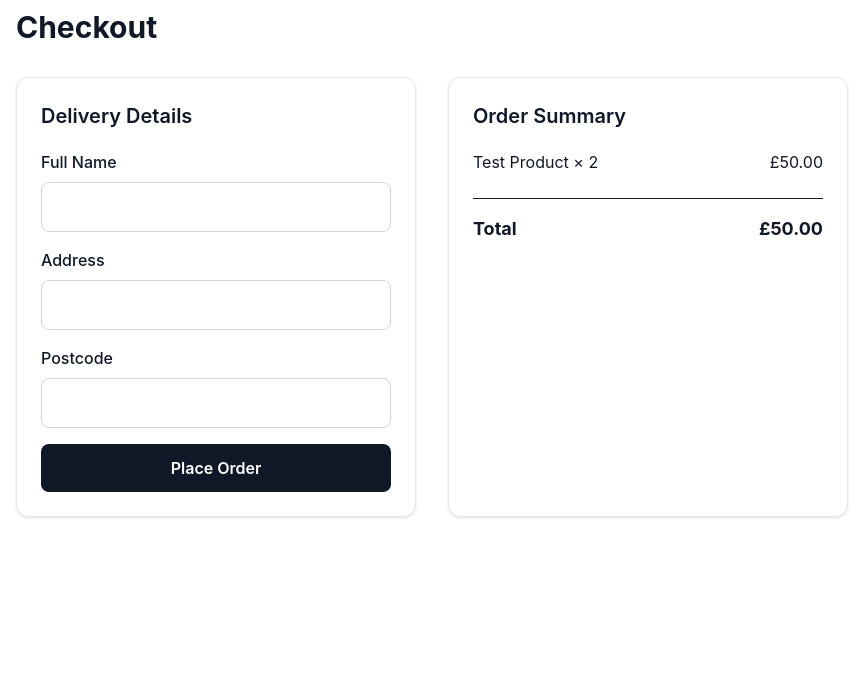
Test: Checkout › shows demo message after placing order
In the field labelled "Full Name": (216, 207) [41,182,391,232], type "Test User"
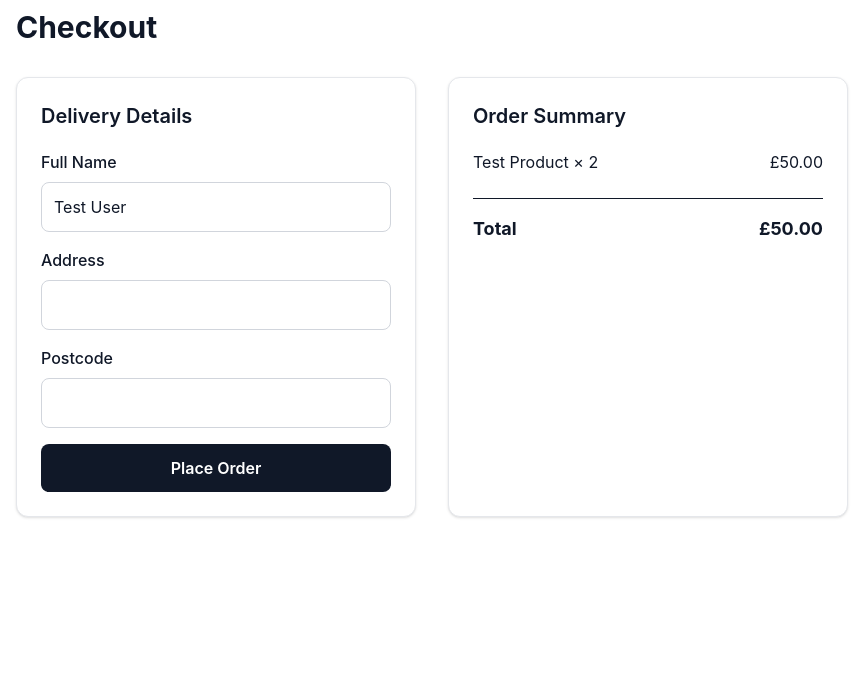
In the field labelled "Address": (216, 305) [41,280,391,330], type "10 Test Street"
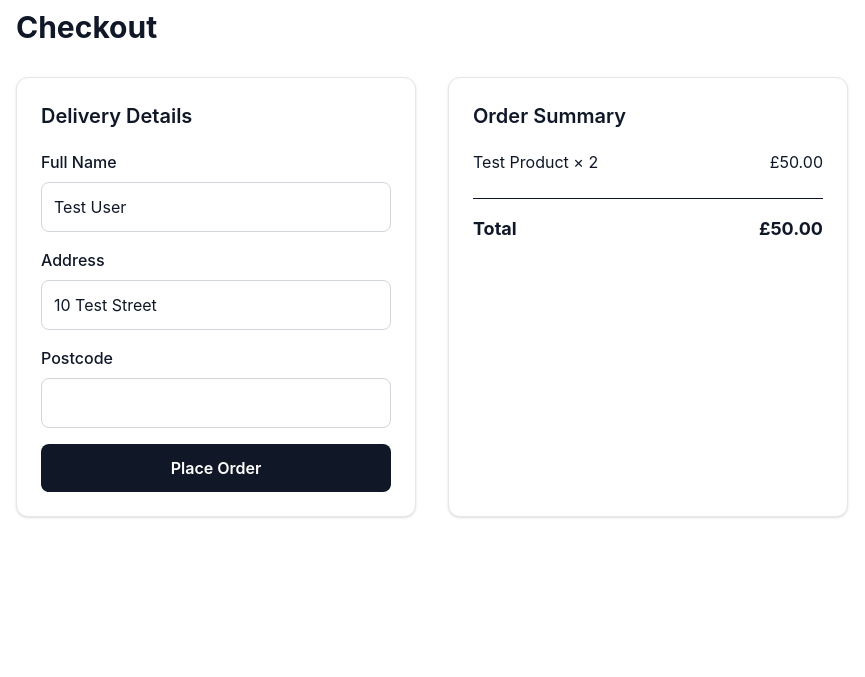
In the field labelled "Postcode": (216, 403) [41,378,391,428], type "AB1 2CD"
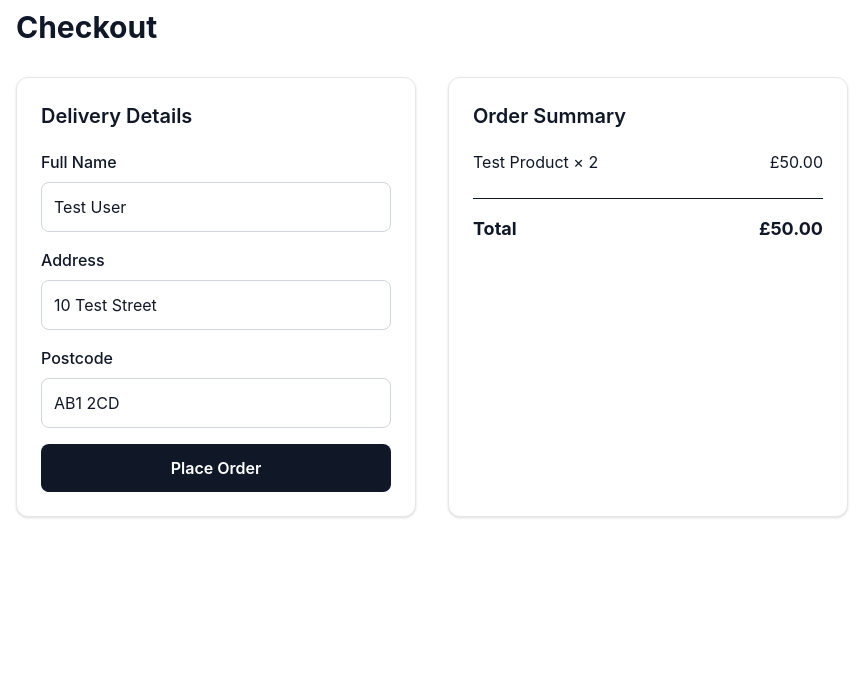
Click the button "Place Order": (216, 468) [41,444,391,492]
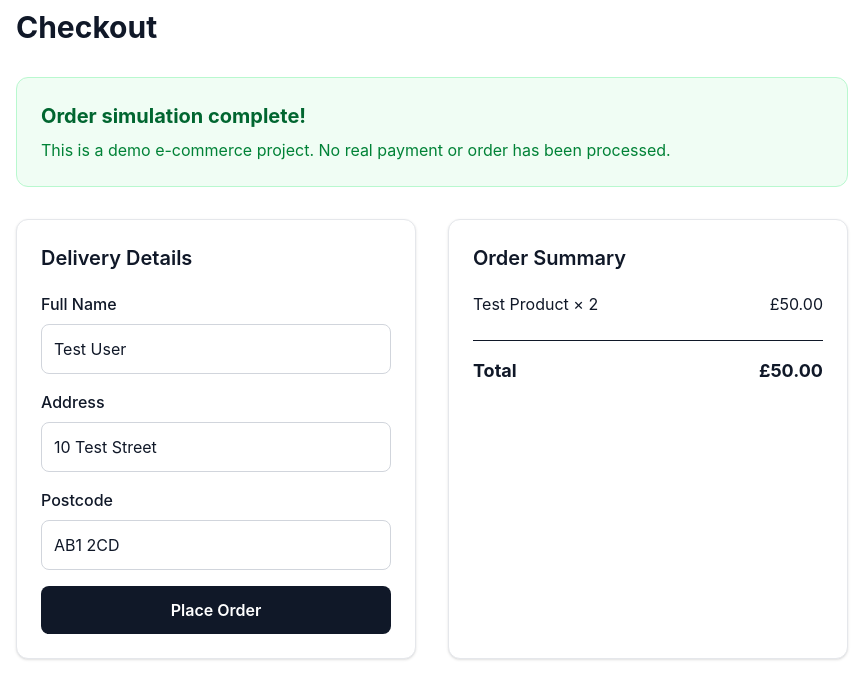
Result: the heading "Order simulation complete!" is shown at [41,104,306,128]
Result: the text "This is a demo e-commerce project. No real payment or order has been processed." is shown at [41,140,671,160]
